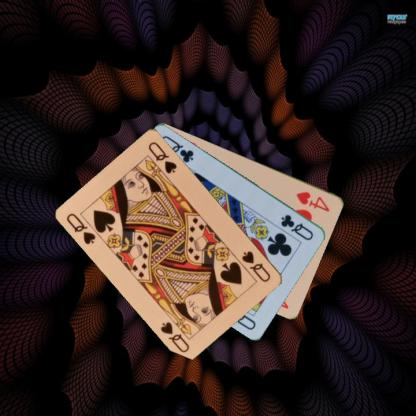4h: (294, 188, 331, 214)
Qc: (278, 212, 315, 242)
Qs: (64, 210, 98, 246), (239, 248, 272, 284)
